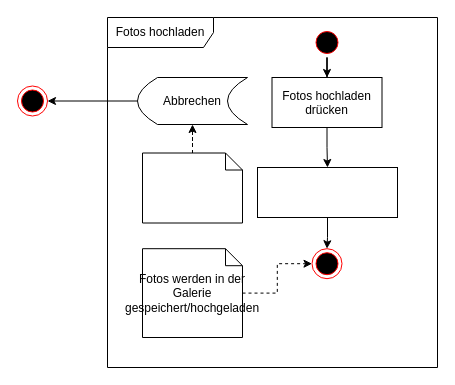
Some shapes in this 455 by 385 pixel diagram are drawn without their labels. The centre of each missing label's shape, as x and y in pixels:
Foto-Dateien auswählen: pixel 327 192
Man kann jederzeit die Aktivität abbrechen: pixel 192 187
